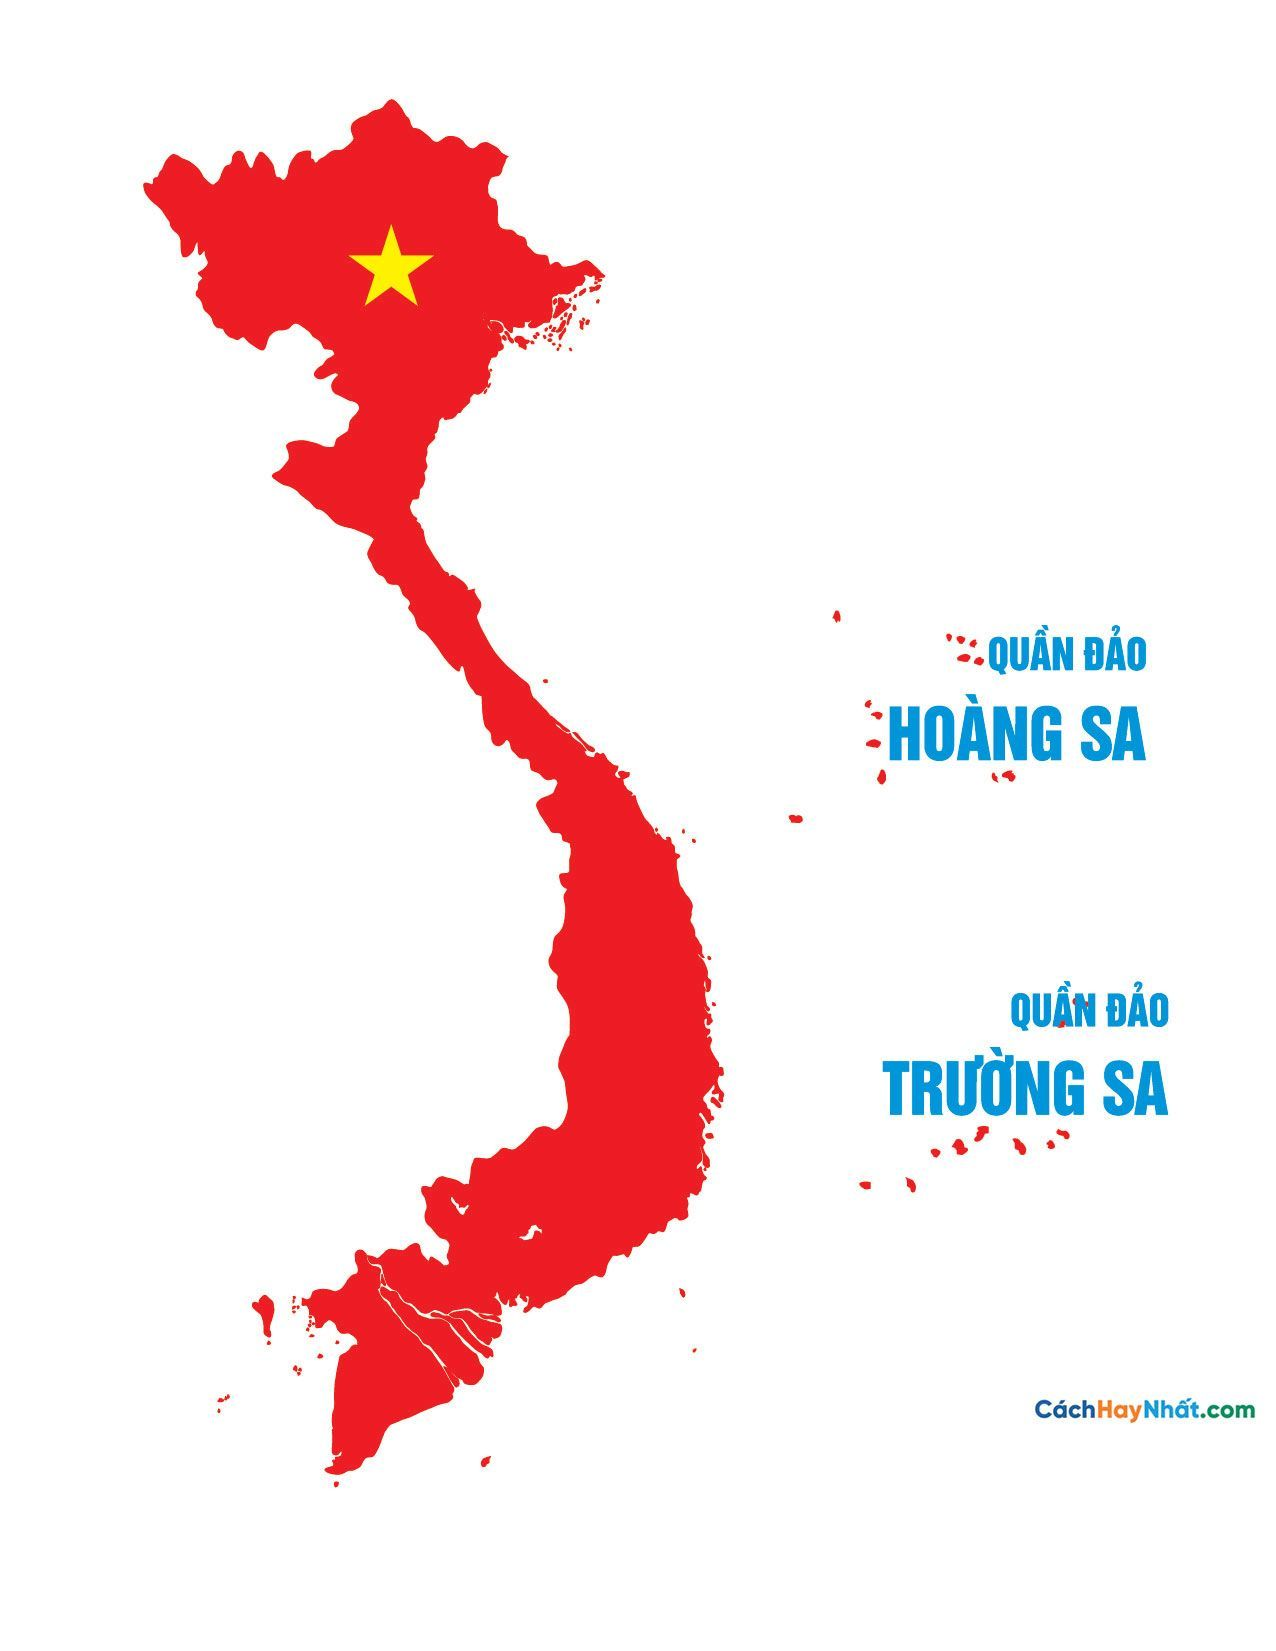Island: (791, 571, 1184, 813), (848, 968, 1184, 1207)
